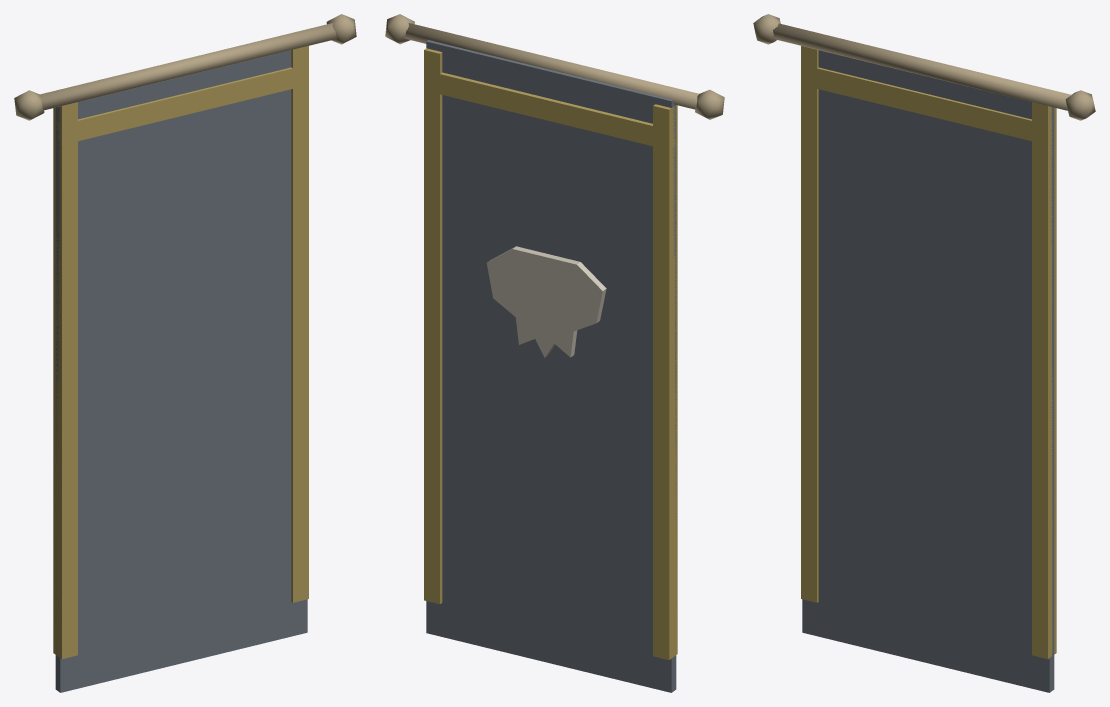
File: armored_skeleton_banner_v0.glb
3 renders of one model, left to right at view 1: azimuth 30°, elevation 25°; view 2: azimuth 150°, elevation 25°; view 3: azimuth 330°, elevation 25°, orthographic.
Visible parts, largest first — view 1: armored_skeleton_banner_v0; view 2: armored_skeleton_banner_v0; view 3: armored_skeleton_banner_v0.
Boxes of the visible parts, <box> form: armored_skeleton_banner_v0: <box>14,14,356,692</box>; armored_skeleton_banner_v0: <box>385,14,724,692</box>; armored_skeleton_banner_v0: <box>753,14,1095,692</box>.
Bounding box in the file's own units: 1.04 × 1.8 × 0.0933.
